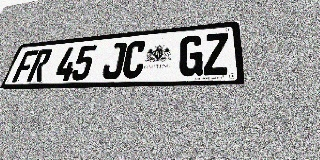4: (53, 46, 80, 81)
5: (70, 45, 97, 80)
C: (121, 40, 147, 79)
F: (12, 50, 39, 82)
G: (178, 35, 203, 76)
J: (101, 42, 127, 79)
R: (26, 49, 53, 82)
Z: (203, 33, 229, 76)
